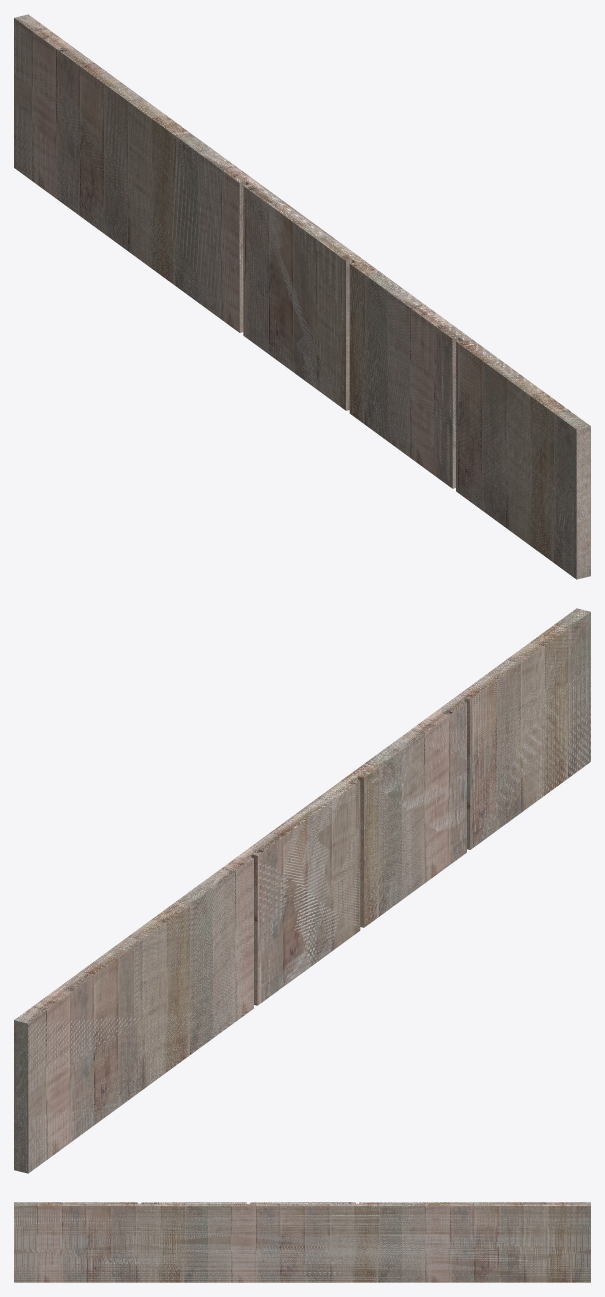
The model's file is original-49.obj.
The picture shows the model from 3 angles, top to bottom: view 1: azimuth 30°, elevation 25°; view 2: azimuth 150°, elevation 25°; view 3: azimuth 270°, elevation 25°; orthographic projection. The views are drawn at different scales.
Visible parts, largest first — view 1: Group_710_1/Group_710/mesh39/mesh39-geometry#mesh39-geometry; view 2: Group_710_1/Group_710/mesh39/mesh39-geometry#mesh39-geometry; view 3: Group_710_1/Group_710/mesh39/mesh39-geometry#mesh39-geometry.
Boxes of the visible parts, x1,y1,x2,y2 form: Group_710_1/Group_710/mesh39/mesh39-geometry#mesh39-geometry: (14,14,590,579); Group_710_1/Group_710/mesh39/mesh39-geometry#mesh39-geometry: (14,608,590,1173); Group_710_1/Group_710/mesh39/mesh39-geometry#mesh39-geometry: (14,1202,590,1282).
Bounding box in the file's own units: 0.0118 × 0.1176 × 0.7998.
